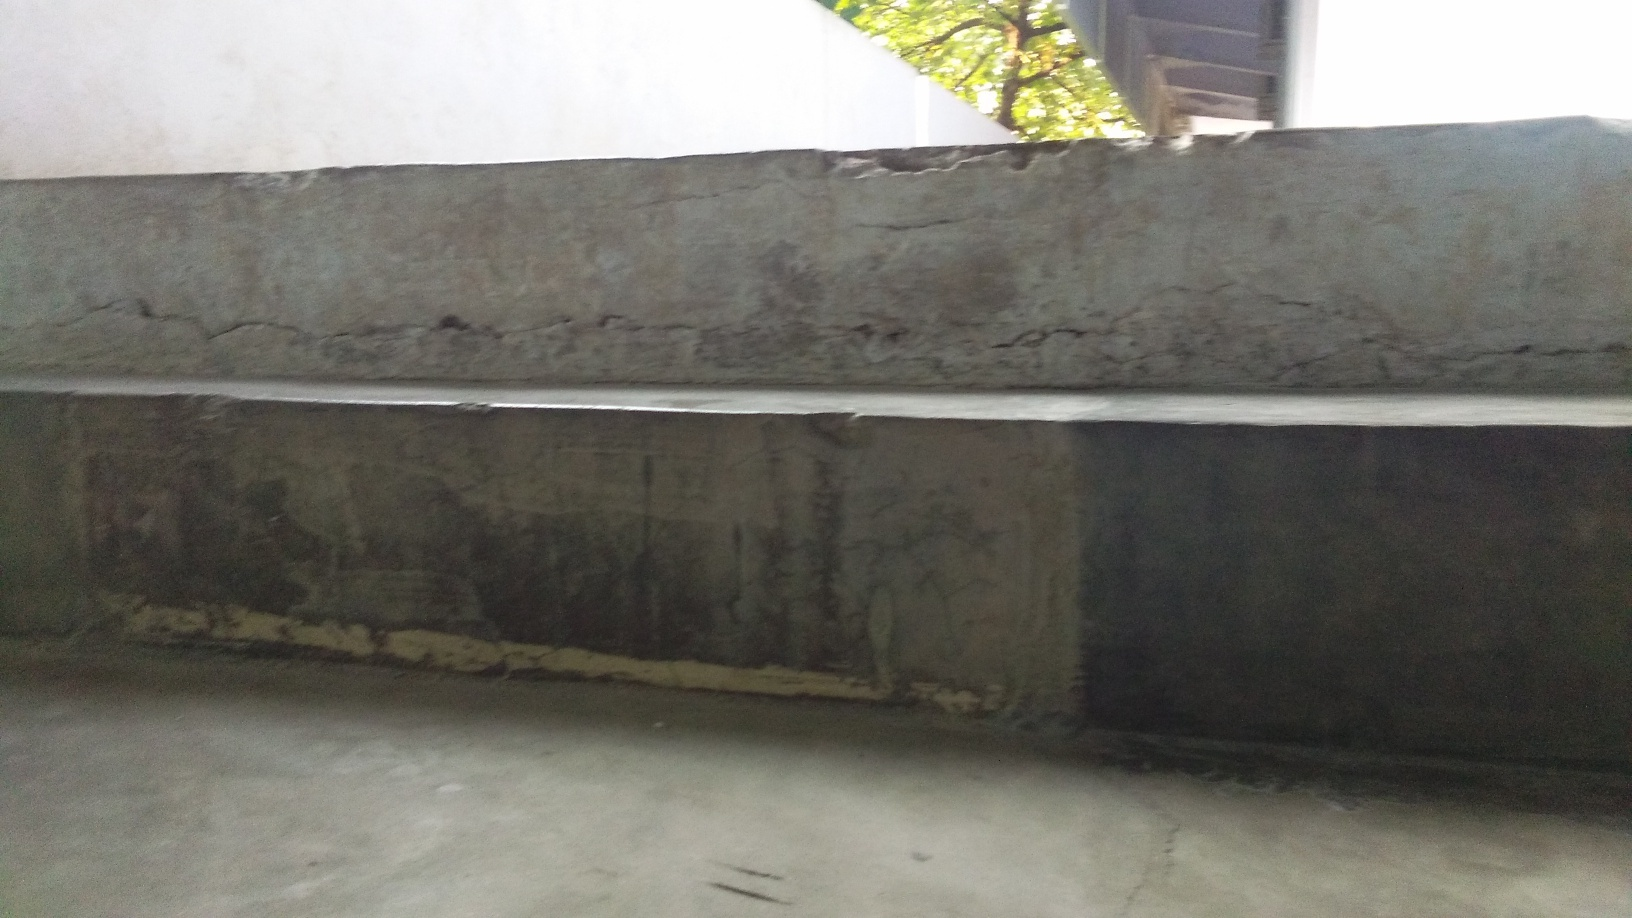stairs_up: (21, 171, 1632, 752)
